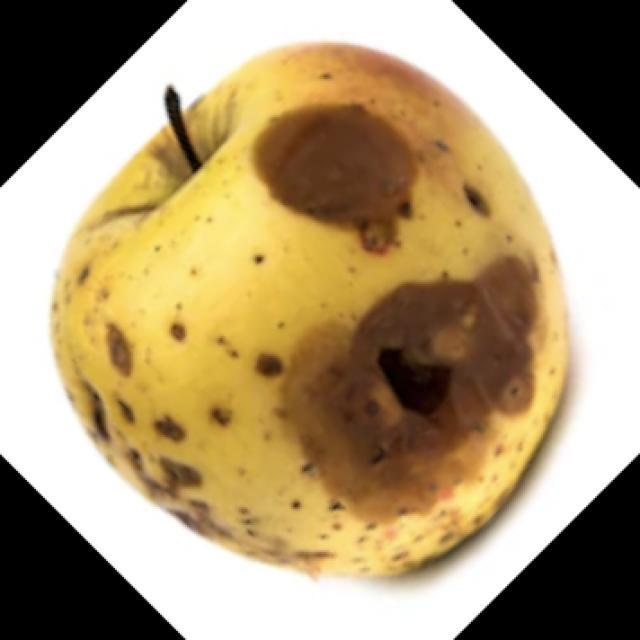Rotten: (93, 58, 570, 587)
